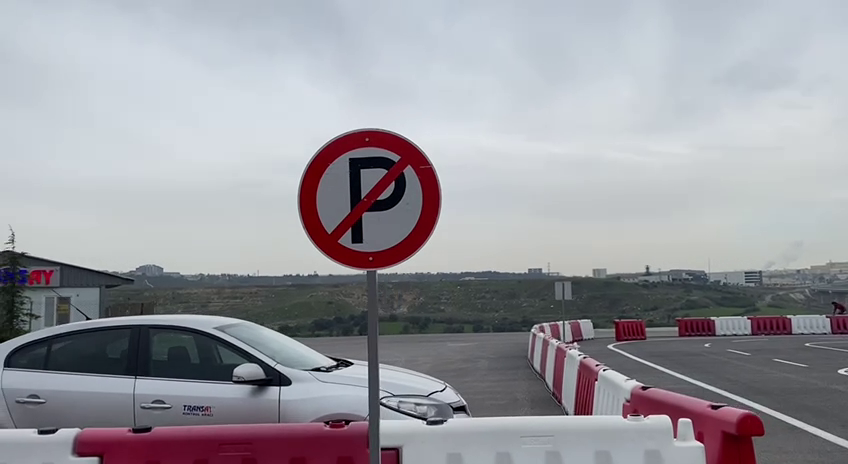noparking: (294, 125, 447, 274)
